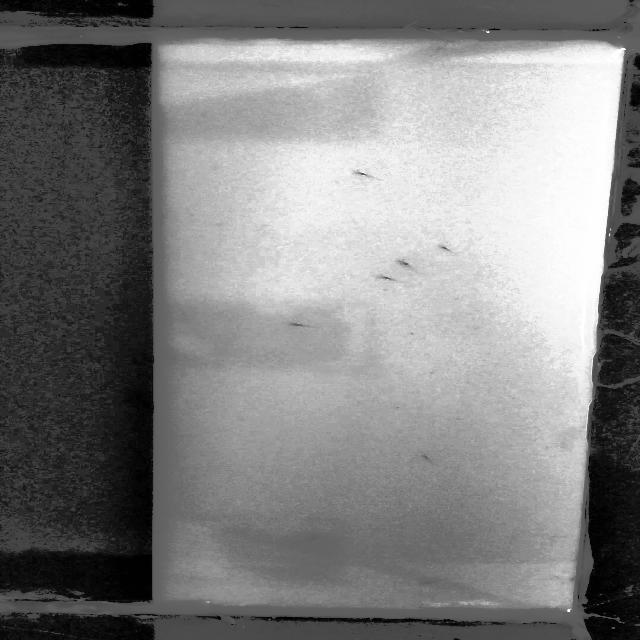shrimp: (357, 168, 390, 182), (432, 242, 462, 255), (397, 257, 425, 270), (289, 320, 325, 330), (424, 578, 444, 587), (305, 533, 327, 541), (376, 276, 398, 283), (421, 452, 434, 462)
